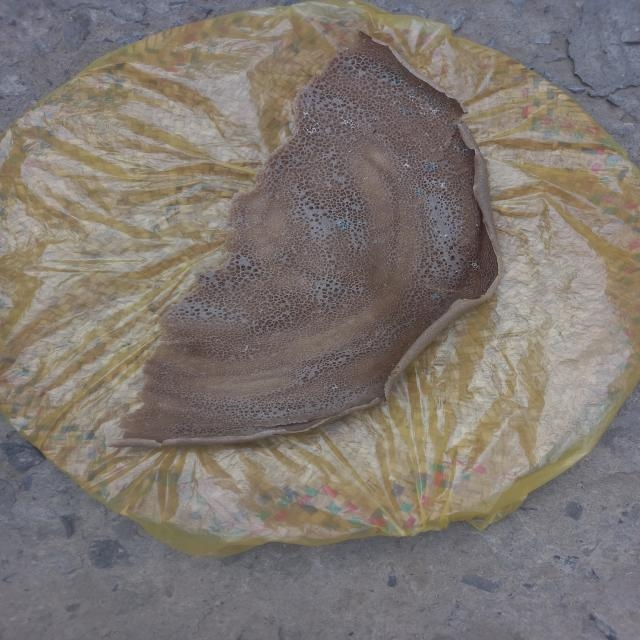injera_mold: (416, 103, 438, 118), (338, 116, 358, 132), (302, 122, 321, 135), (432, 180, 450, 191), (424, 162, 439, 171), (470, 260, 480, 270), (406, 94, 417, 102), (340, 221, 350, 228), (356, 220, 369, 225), (425, 94, 434, 101), (430, 294, 440, 300), (462, 147, 470, 154), (398, 108, 409, 113), (391, 78, 402, 83), (332, 384, 339, 390), (374, 238, 381, 244), (302, 110, 309, 116), (424, 131, 431, 137), (381, 74, 388, 80), (416, 190, 422, 196), (448, 125, 454, 131), (392, 100, 398, 106), (409, 89, 416, 94), (404, 162, 410, 167), (443, 234, 449, 238), (363, 176, 369, 180), (454, 269, 459, 273), (438, 102, 443, 106), (398, 178, 402, 181), (261, 412, 264, 415), (476, 223, 478, 227), (267, 405, 270, 407), (266, 408, 268, 411), (467, 252, 470, 254), (308, 417, 310, 419), (406, 159, 408, 161), (261, 418, 263, 419), (288, 409, 290, 410), (293, 410, 295, 411), (288, 419, 290, 420)
